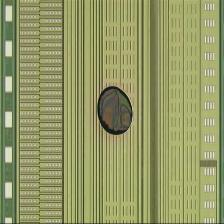PARTICLE: (95, 82, 138, 139)
